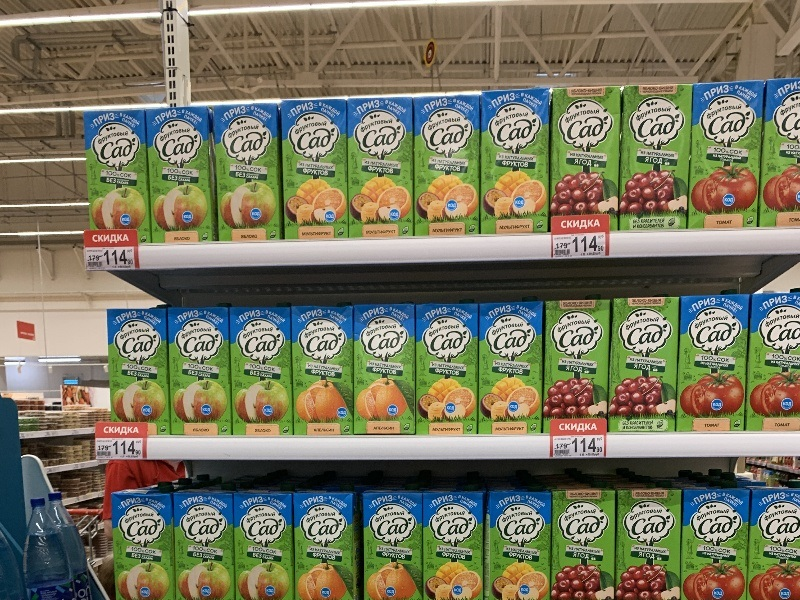juice: (611, 75, 700, 240), (474, 84, 560, 240), (337, 87, 421, 245), (141, 97, 226, 248), (687, 75, 768, 228), (544, 74, 628, 217), (210, 94, 289, 245), (277, 93, 353, 246), (224, 298, 303, 445), (674, 287, 752, 434), (164, 298, 241, 445), (607, 289, 682, 434), (103, 300, 181, 439), (76, 103, 158, 235), (408, 299, 485, 438), (345, 298, 423, 435), (476, 292, 549, 437), (411, 87, 482, 234), (286, 298, 360, 439), (541, 290, 615, 419)
